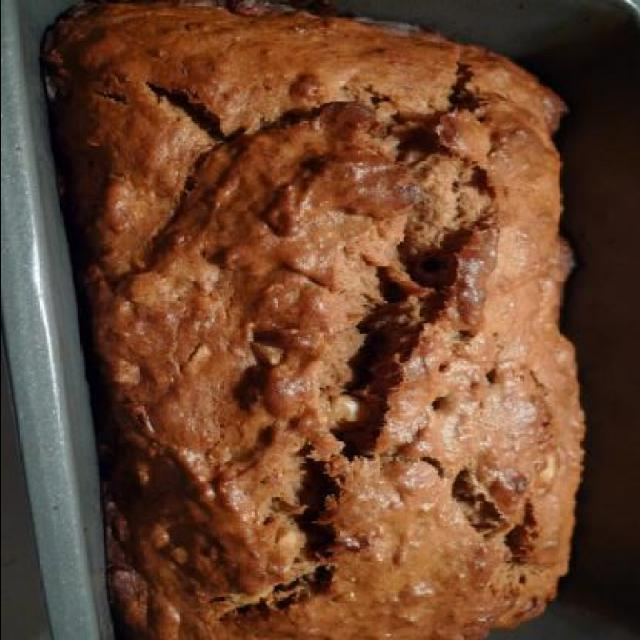Bread: (40, 0, 591, 640)
